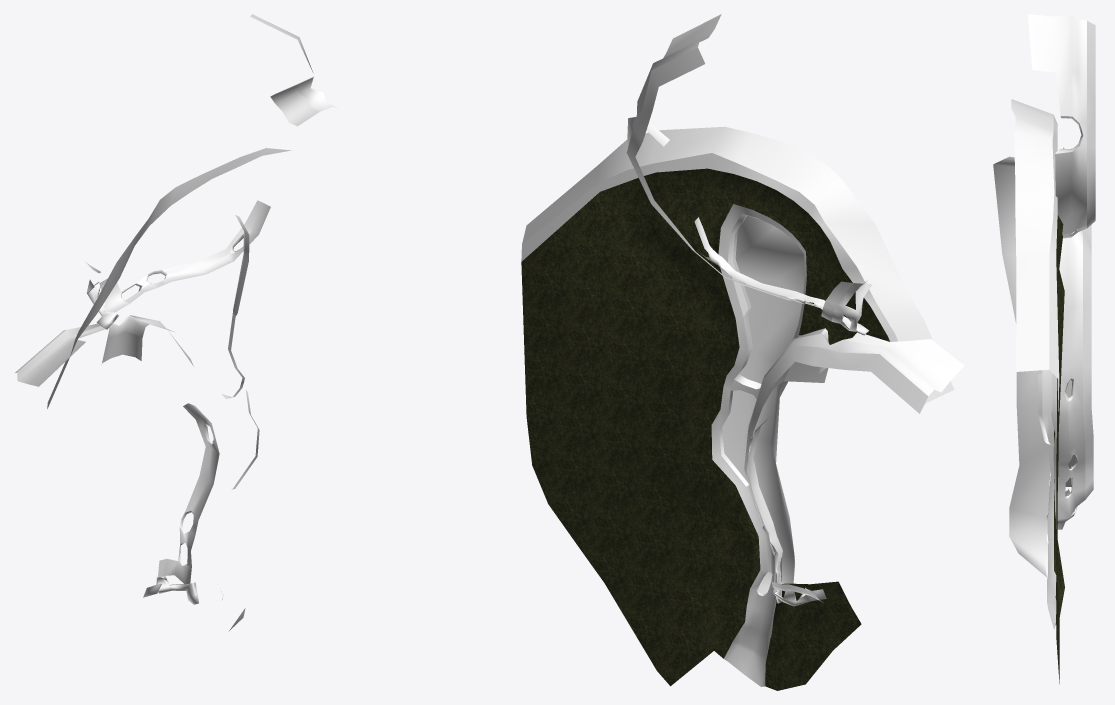
File: terrain.glb
3 renders of one model, left to right at view 1: azimuth 30°, elevation 25°; view 2: azimuth 150°, elevation 25°; view 3: azimuth 270°, elevation 25°, orthographic. The views are drawn at different scales.
Parts seen in each view (by area): view 1: rockMountain.jpg__, black_rockMountain.jpg__, to_black_rockMountain.jpg__; view 2: grass.jpg__, rockMountain.jpg__, rockTograss.jpg__, black_rockMountain.jpg__, to_black_rockMountain.jpg__; view 3: rockMountain.jpg__, black_rockMountain.jpg__, rockTograss.jpg__, grass.jpg__, to_black_rockMountain.jpg__.
Part boxes in pixels (x1,y1,x2,y2): rockMountain.jpg__: (15,14,313,604); black_rockMountain.jpg__: (102,83,319,630); to_black_rockMountain.jpg__: (99,76,336,599); grass.jpg__: (521,168,889,690); rockMountain.jpg__: (522,14,964,606); rockTograss.jpg__: (521,47,928,686); black_rockMountain.jpg__: (646,123,828,594); to_black_rockMountain.jpg__: (647,122,851,595); rockMountain.jpg__: (1011,14,1086,529); black_rockMountain.jpg__: (993,156,1076,577); rockTograss.jpg__: (1042,21,1095,629); grass.jpg__: (1054,215,1064,683); to_black_rockMountain.jpg__: (1038,116,1083,543).
Bounding box in the file's own units: 185 × 267 × 39.5.
Materials: 5 (1 with a texture image).
